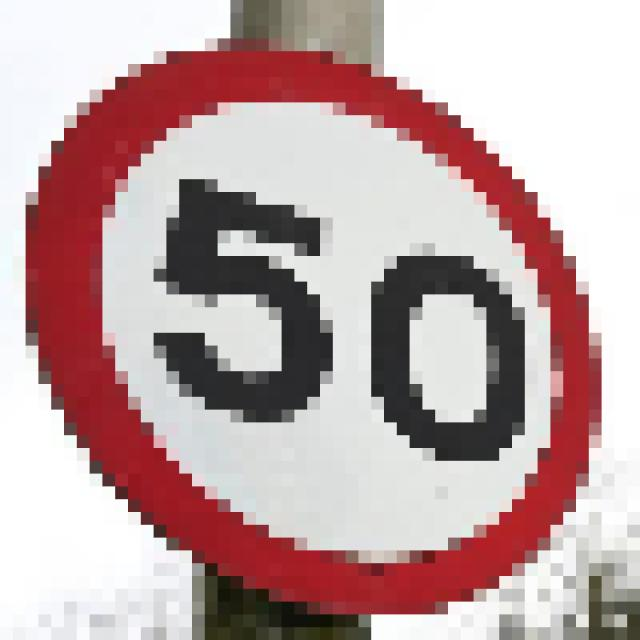Limite-50: (22, 41, 608, 616)
